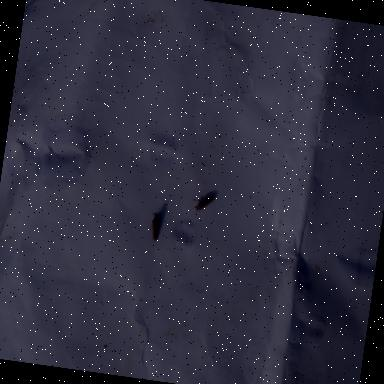pbw: (188, 192, 214, 214), (146, 212, 162, 242)
